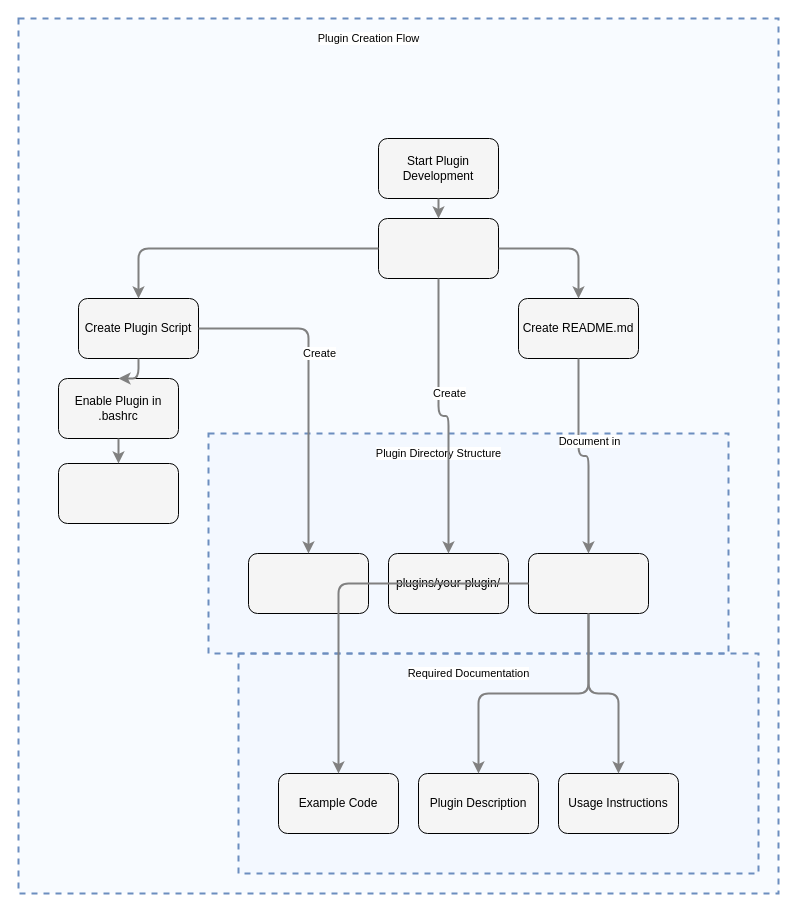
This 796x911 diagram has some shape labels left out. The centre of each missing label's shape, as x and y in pixels:
"Create Plugin Directory" belongs at point (438, 248).
"README.md" belongs at point (588, 583).
"Test Plugin" belongs at point (118, 493).
"your-plugin.plugin.sh" belongs at point (308, 583).
